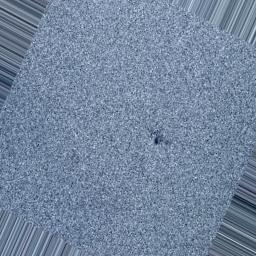Airplane: (146, 127, 173, 147)
